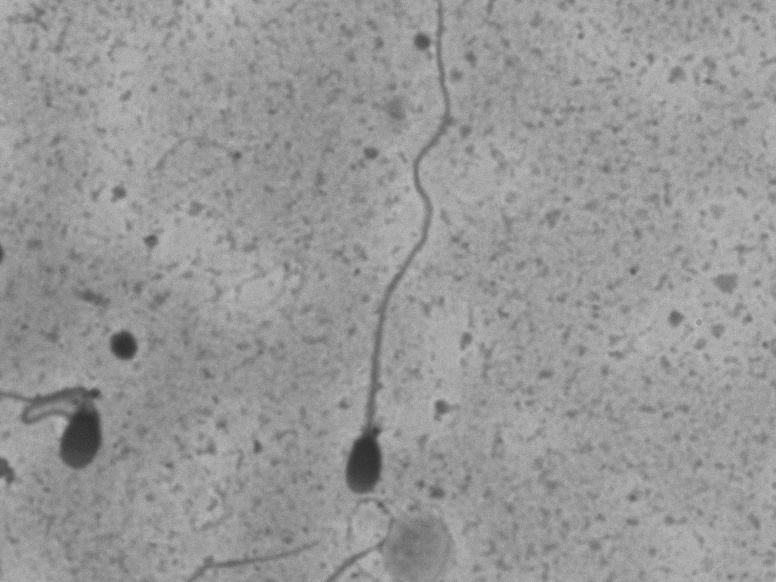Abnormal: (15, 339, 140, 514)
Normal: (307, 20, 477, 501)
